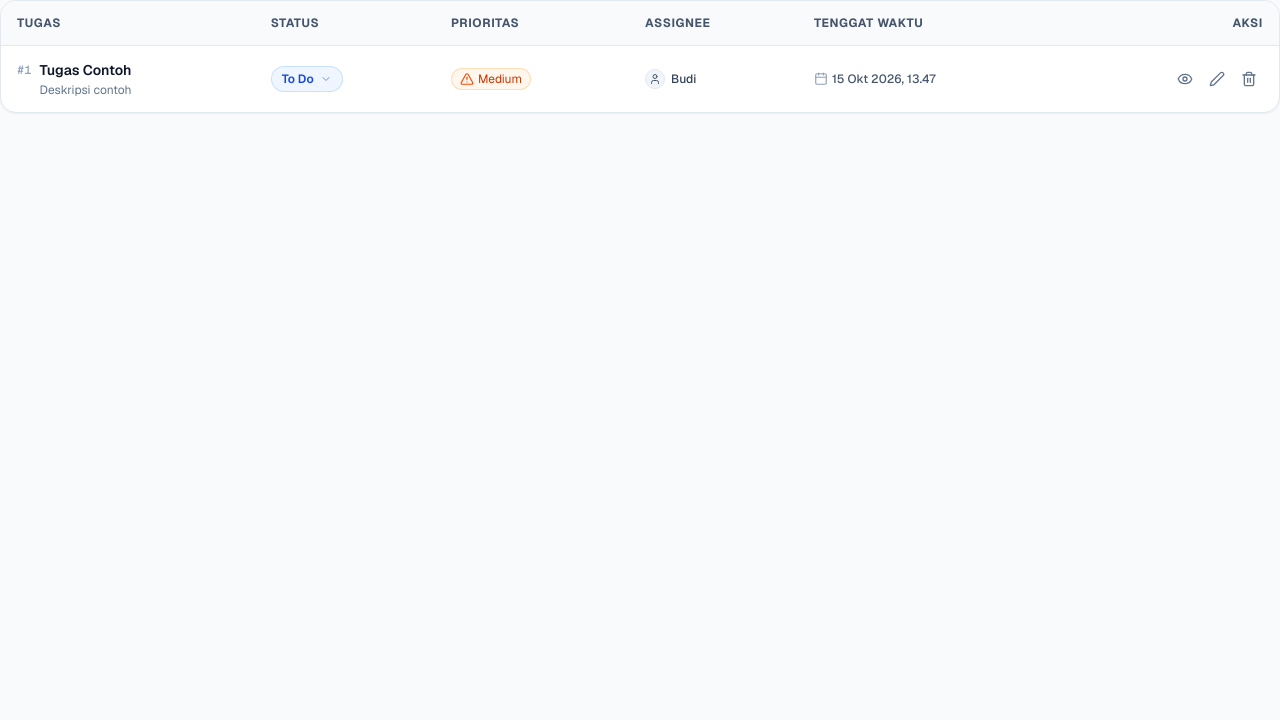
Test case: TaskTable › menu ubah status › klik di luar menutup menu
The image size is (1280, 720).
Click the button titled "Klik untuk mengubah status" at (307, 79), box x1=271 y1=66 x2=343 y2=92
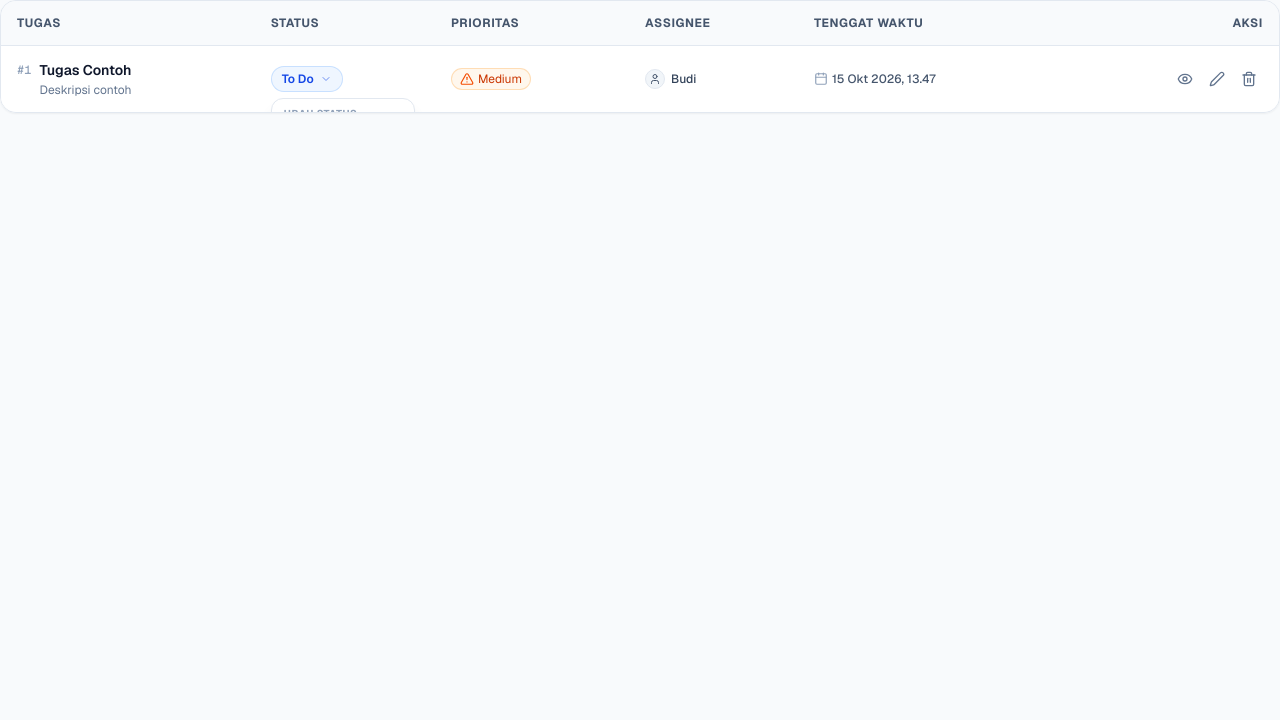
Click the element that starts with "Tugas" at (640, 360), box x1=0 y1=0 x2=1279 y2=719
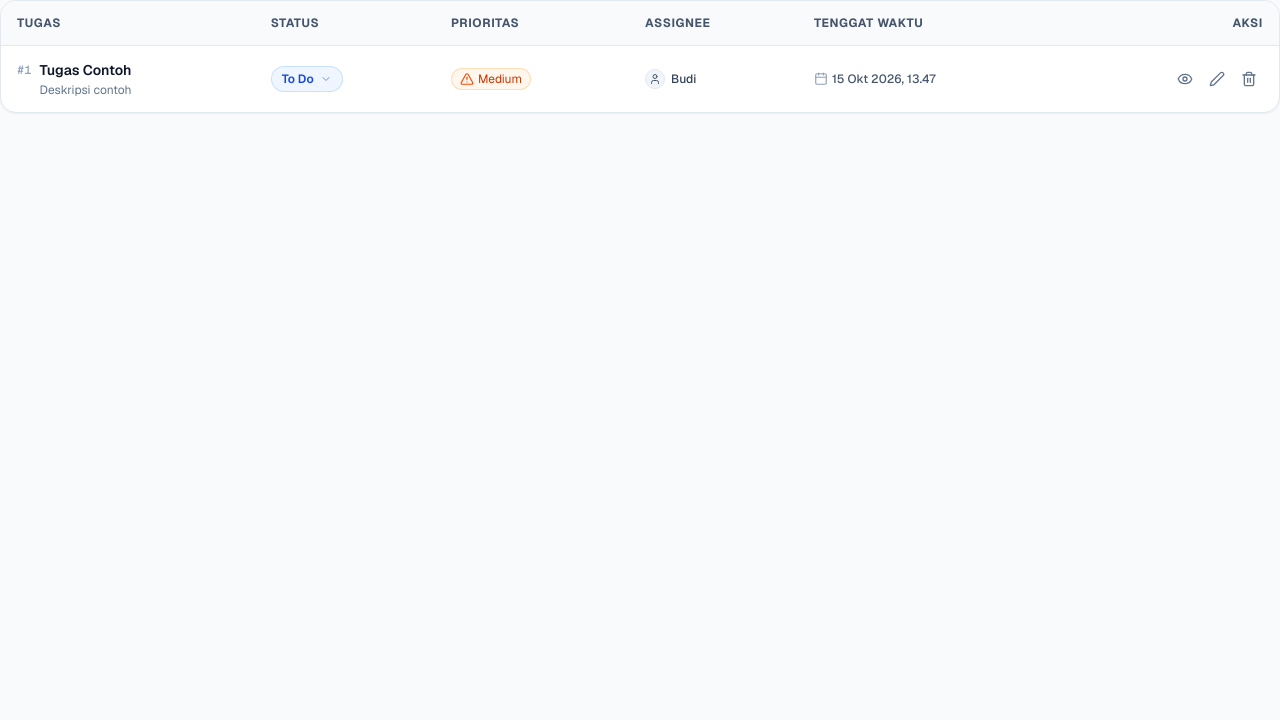
Result: the text "Ubah Status" is gone
